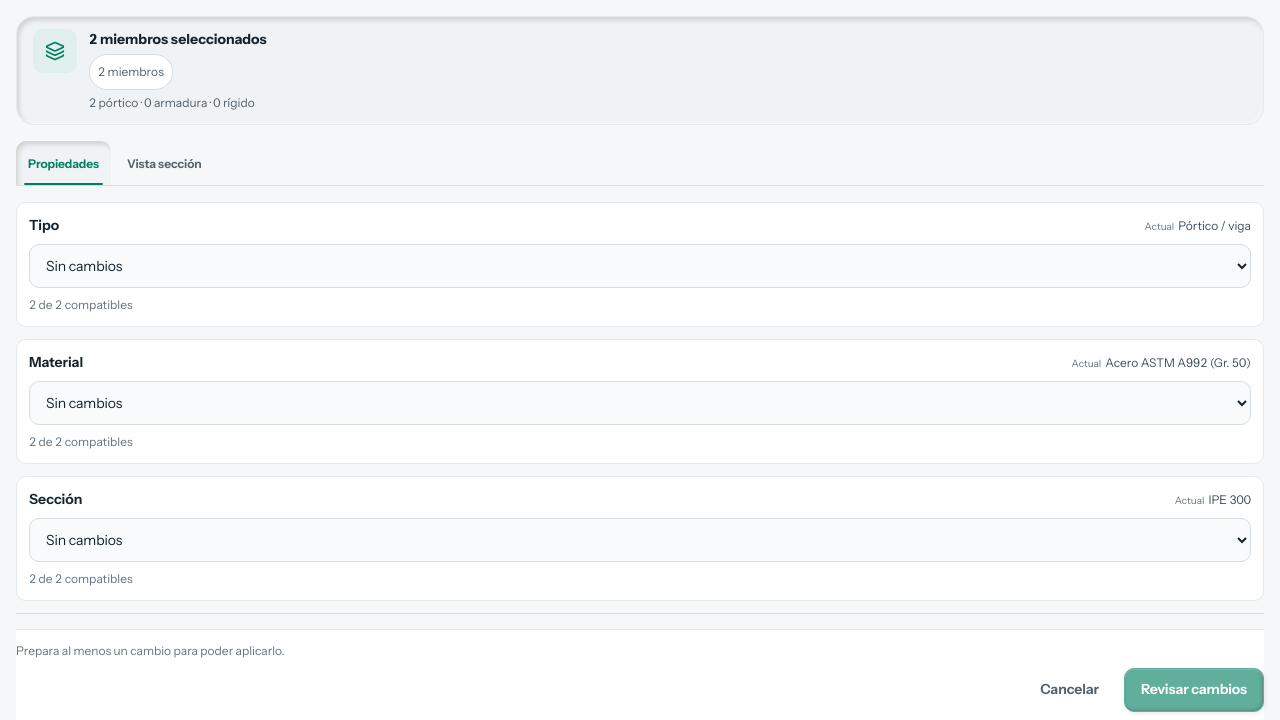
BulkSectionPreview inside the panel › reacts in real time to the staged target section
The image size is (1280, 720).
Click the tab "Vista sección" at (164, 163), box x1=115 y1=141 x2=214 y2=185
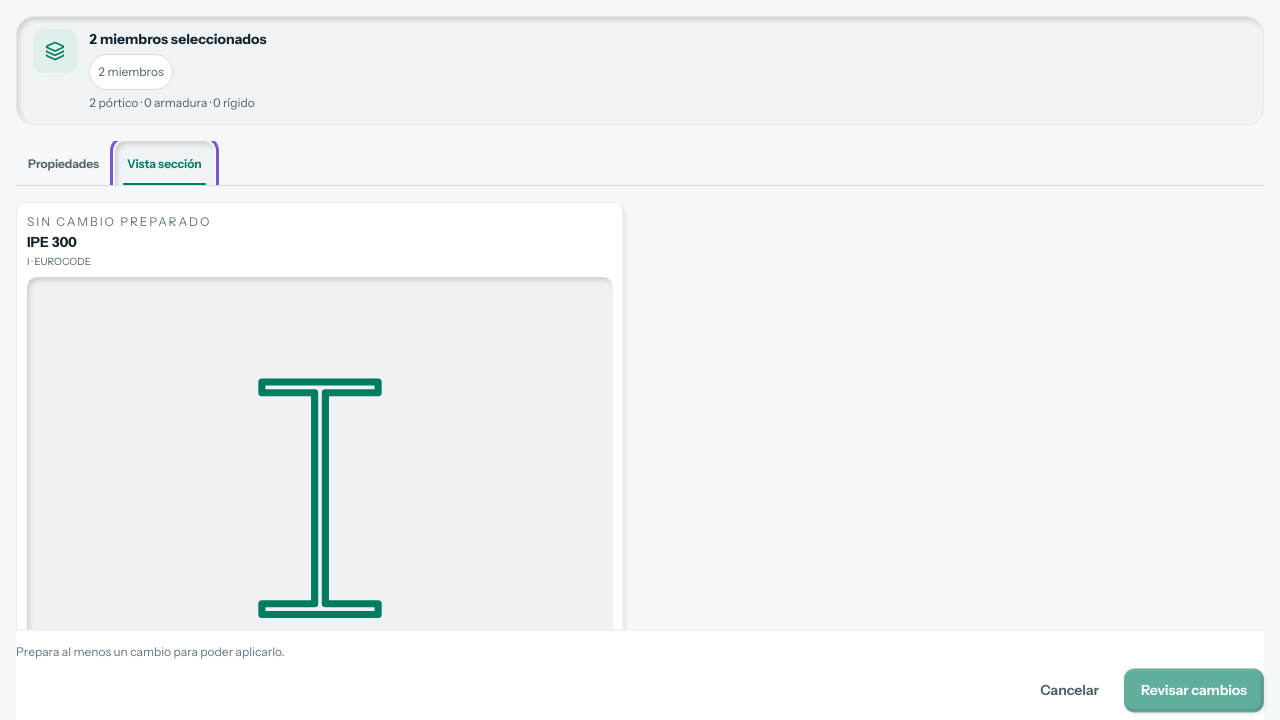
expect the text "IPE 300" is shown: met, box x1=27 y1=233 x2=77 y2=251
expect the text "Sin cambio preparado" is shown: met, box x1=27 y1=214 x2=211 y2=229
Click the tab "Propiedades" at (63, 163), box x1=16 y1=141 x2=111 y2=185
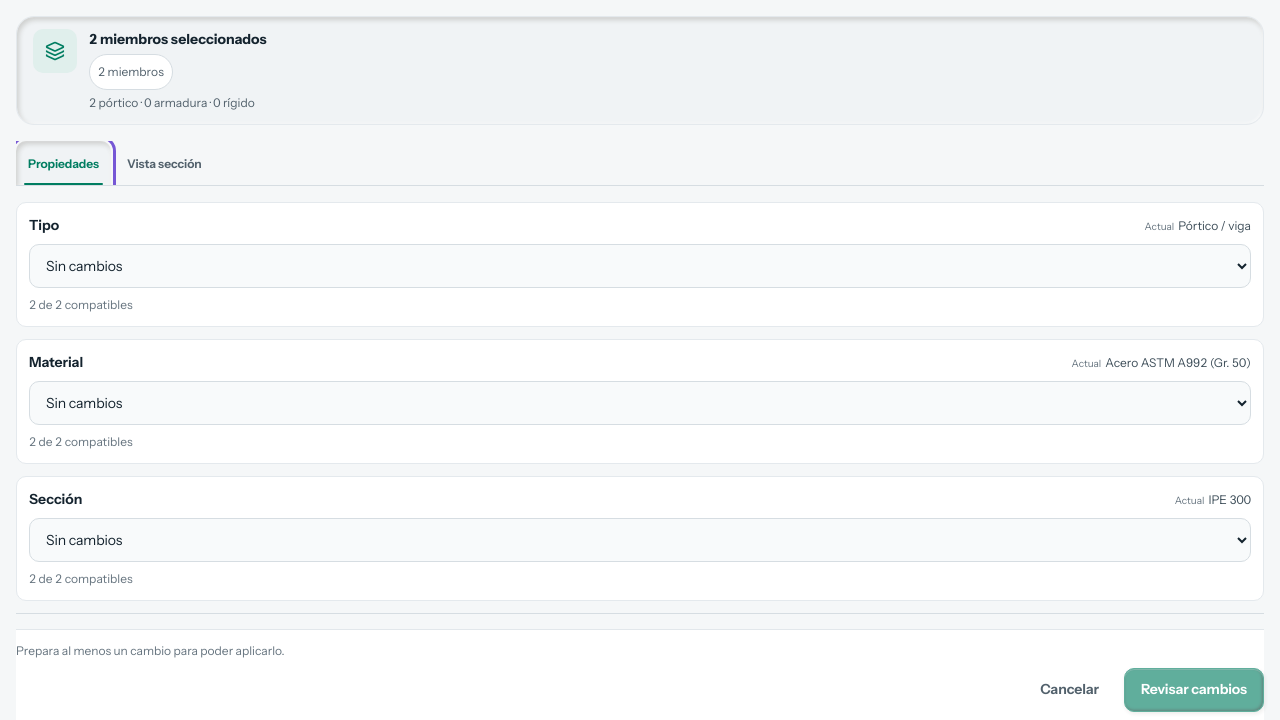
Select "HSS6x6x3/8" in the dropdown labelled "Sección" at (640, 540), box x1=29 y1=518 x2=1251 y2=562
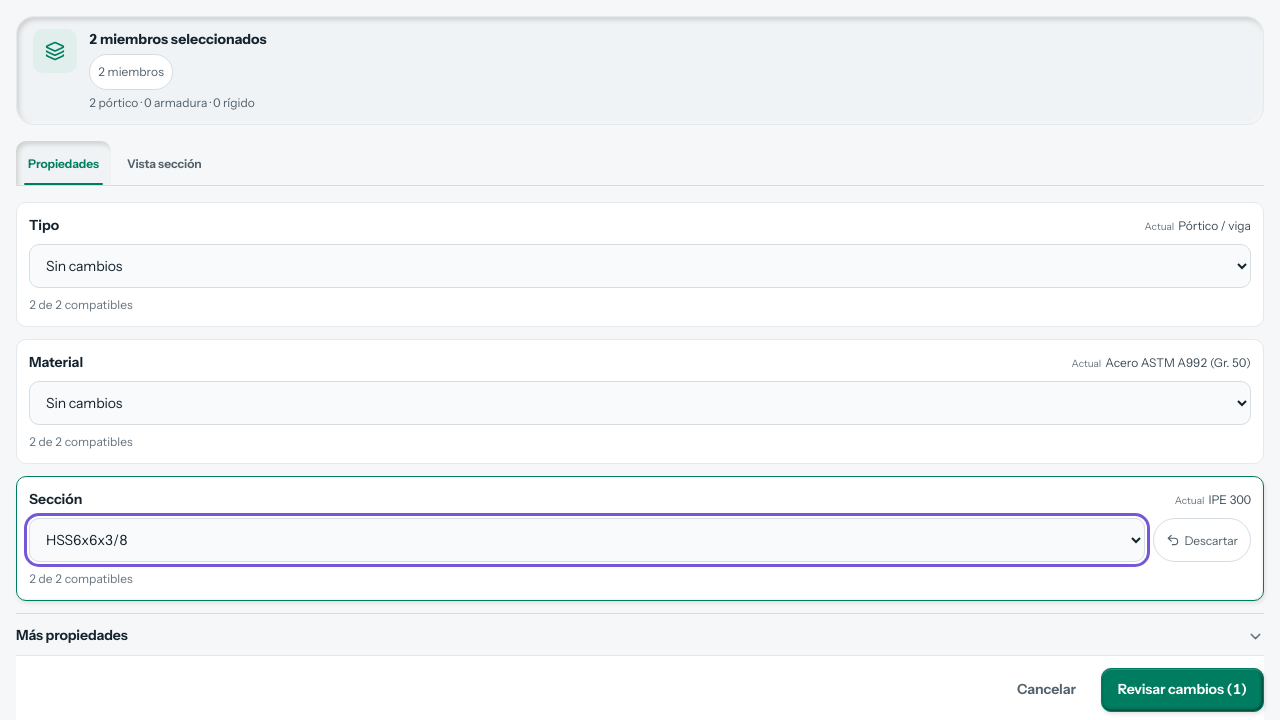
Click the tab "Vista sección" at (164, 163), box x1=115 y1=141 x2=214 y2=185
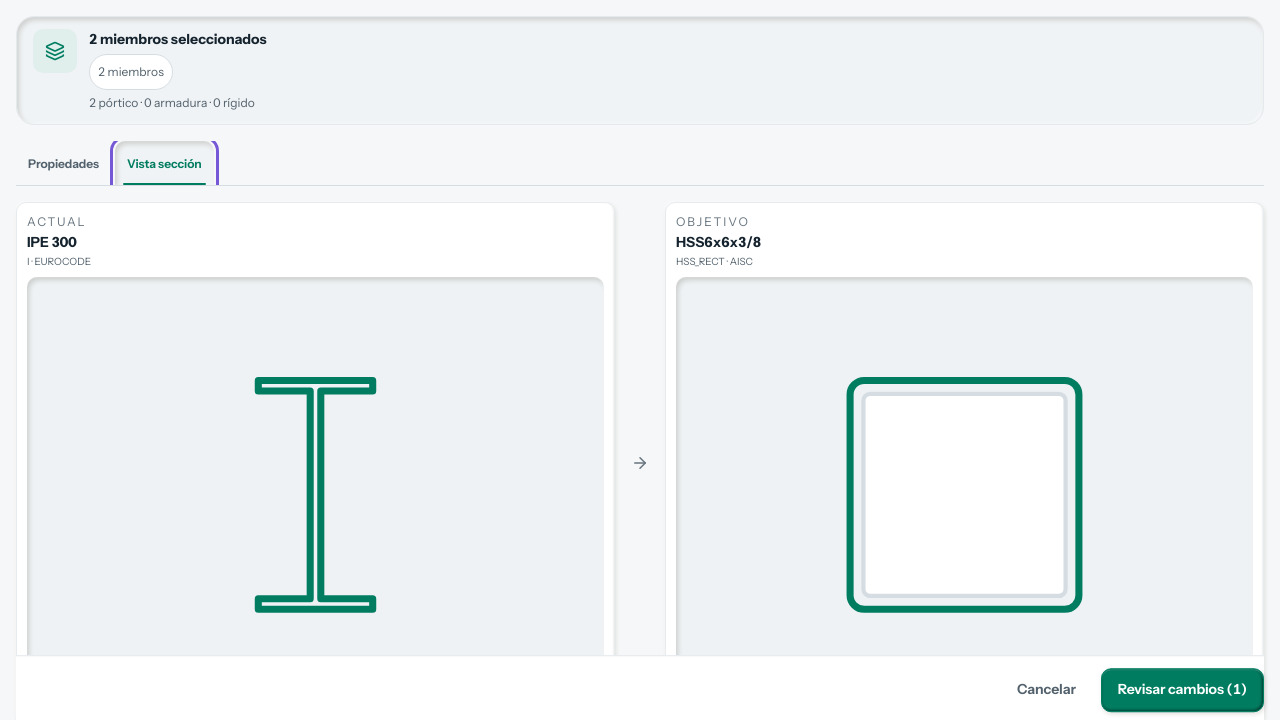
expect the text "HSS6x6x3/8" is shown: met, box x1=676 y1=233 x2=761 y2=251
expect the text "Objetivo" is shown: met, box x1=676 y1=214 x2=750 y2=229
